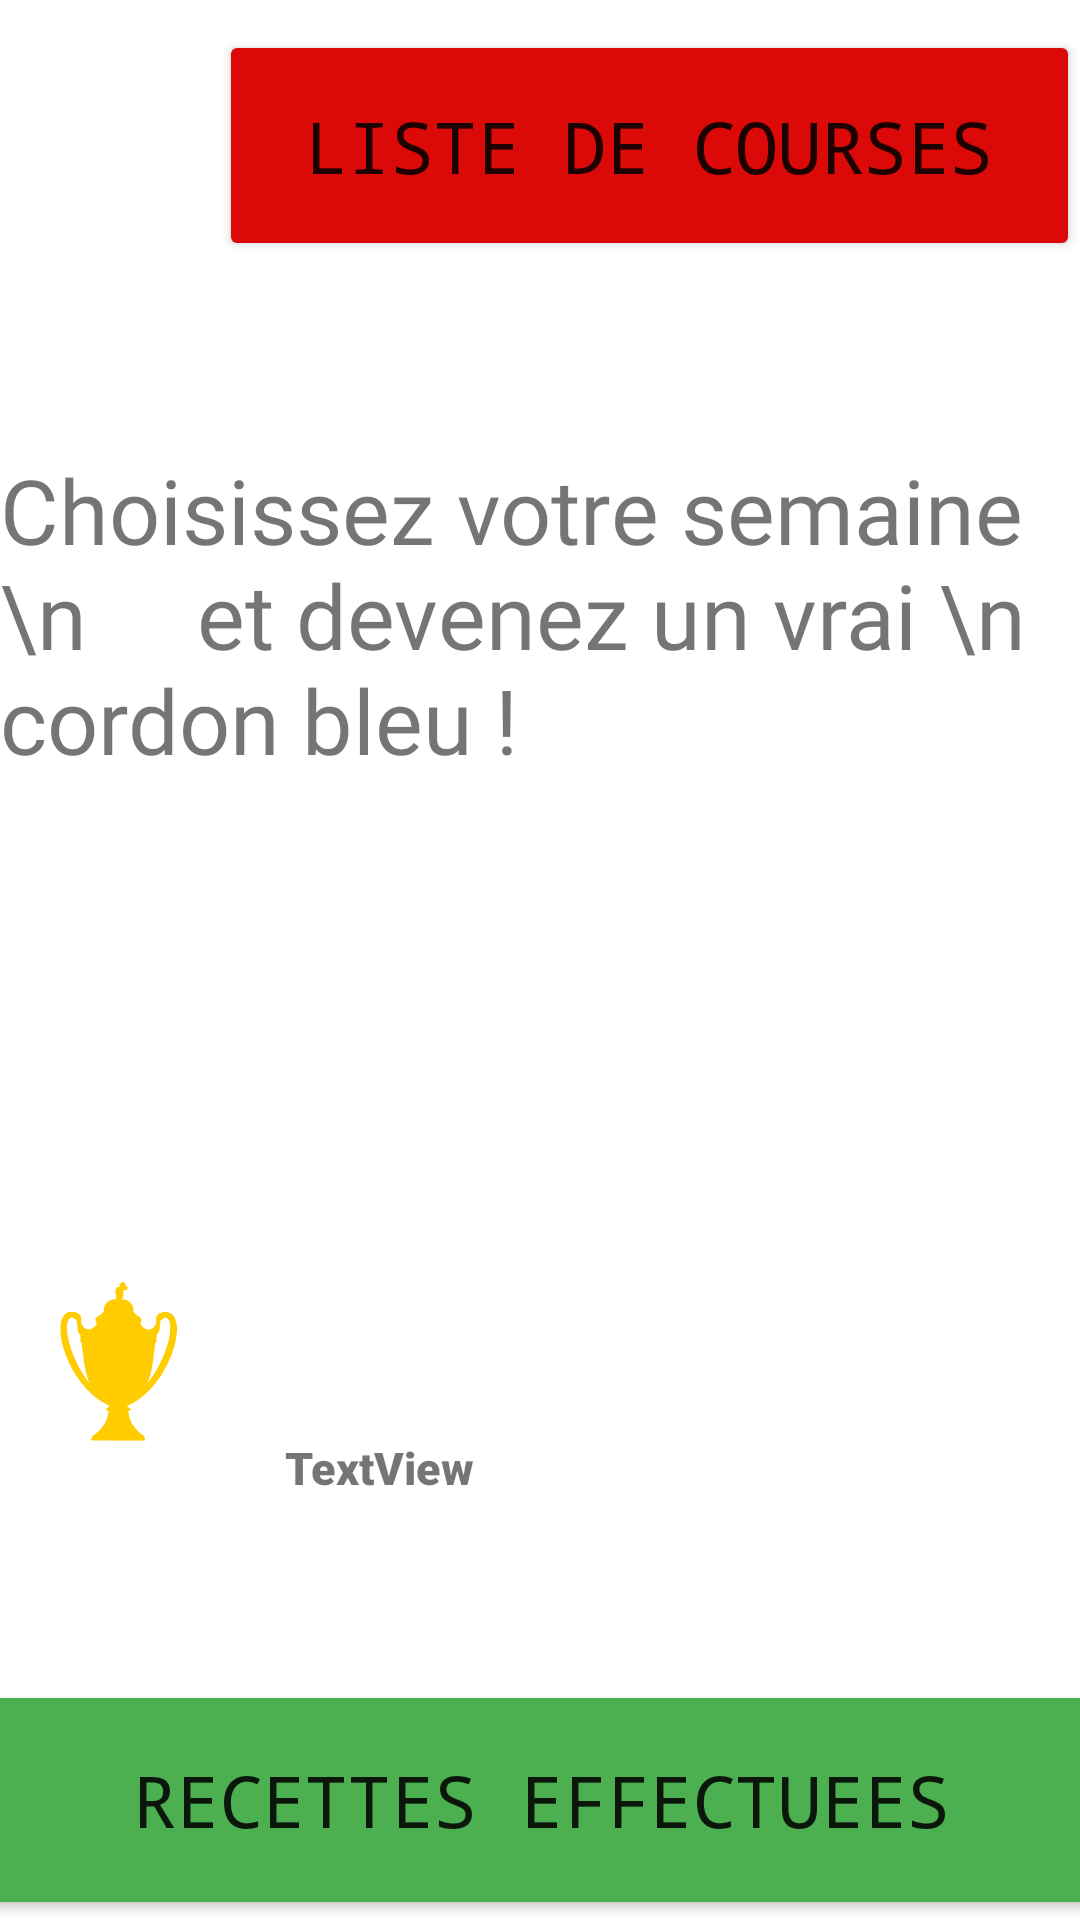

Point at icon controls on the screen. Image size 1080px x 1920px, points as [x,y].
coupe de france: [118,1361]
